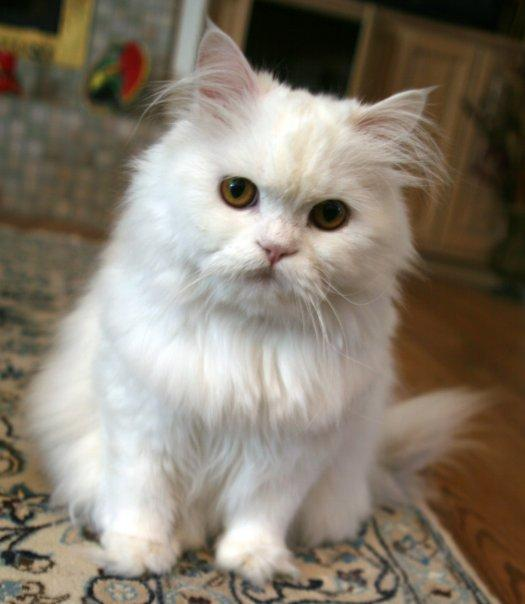Cat: (158, 19, 436, 312)
